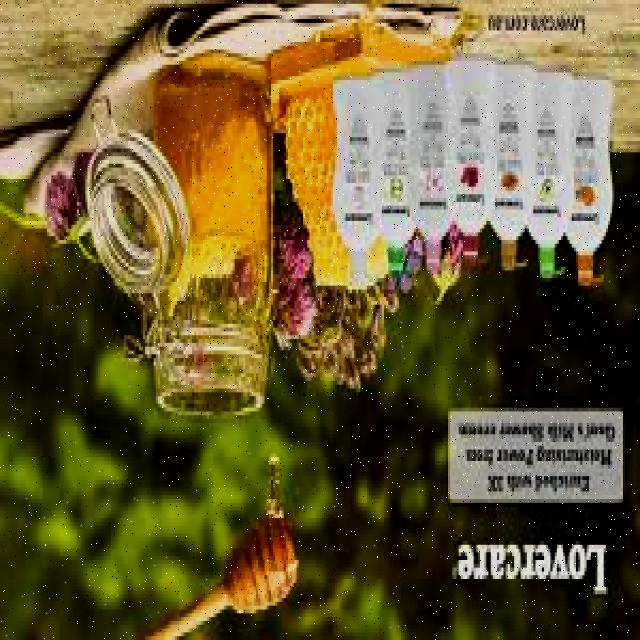liquid soap: (515, 61, 578, 286), (559, 66, 617, 292), (440, 55, 497, 267), (334, 66, 388, 289), (370, 55, 421, 286), (482, 66, 536, 273), (408, 55, 456, 281)
